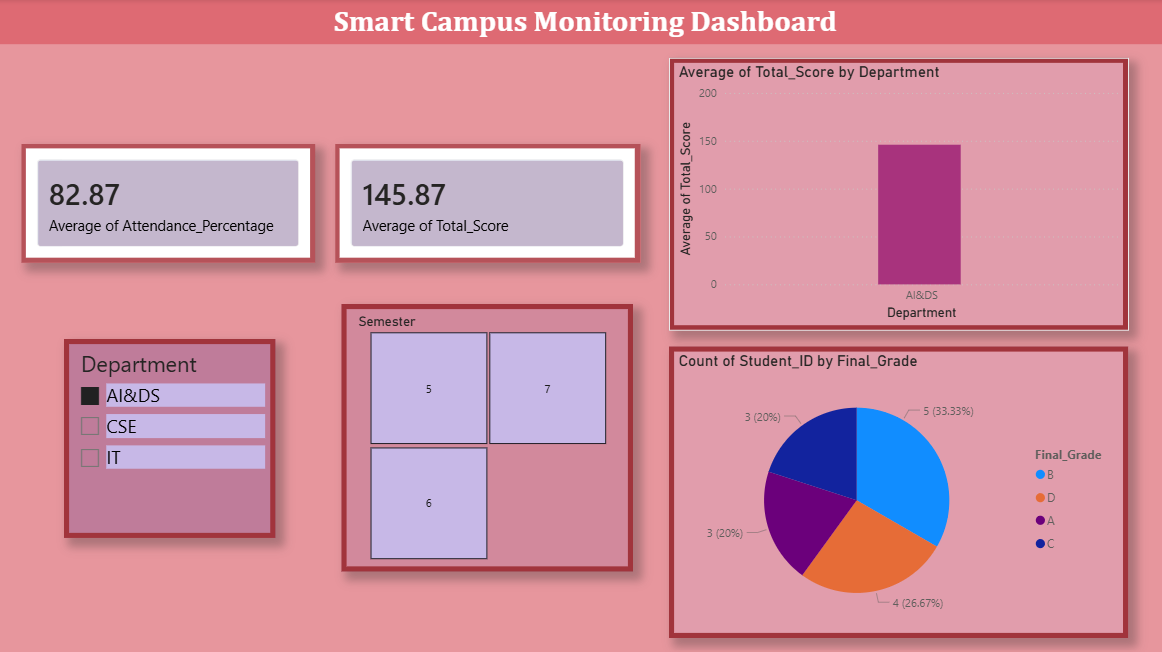

This screenshot's page, from the dashboard's own definition file:
{"tool":"powerbi","page":{"name":"Page 1","canvas":[1280,720],"ordinal":0},"visuals":[{"type":"textbox","box":[0,0,1280.3,49.4],"z":0},{"type":"cardVisual","fields":{"Data":["Avg(5 student_performance.Attendance_Percentage)"]},"box":[24.7,159.2,322.5,130.4],"z":1000},{"type":"cardVisual","fields":{"Data":["Avg(5 student_performance.Total_Score)"]},"box":[369.1,159.2,334.8,130.4],"z":2000},{"type":"slicer","fields":{"Values":["5 student_performance.Department"]},"box":[71.7,373.3,231.7,218.3],"z":3000},{"type":"slicer","fields":{"Values":["5 student_performance.Semester"]},"box":[376.7,335,320,293.3],"z":4000},{"type":"clusteredColumnChart","fields":{"Y":["Avg(5 student_performance.Total_Score)"],"Category":["5 student_performance.Department","5 student_performance.Semester","5 student_performance.Subject"]},"box":[735.9,63.9,504.3,299.2],"z":5000},{"type":"pieChart","fields":{"Category":["5 student_performance.Final_Grade"],"Y":["CountNonNull(5 student_performance.Student_ID)"]},"box":[735.9,381.2,504.3,319.7],"z":6000}]}

Visuals, with their boxes in screenshot pixels (x1, y1, x2, y2), scaled from the page's 1280x720 canvas onto the 1162x652 screenshot:
textbox: bbox=[0, 0, 1161, 45]
cardVisual - Avg(5 student_performance.Attendance_Percentage): bbox=[22, 144, 315, 262]
cardVisual - Avg(5 student_performance.Total_Score): bbox=[335, 144, 639, 262]
slicer - 5 student_performance.Department: bbox=[65, 338, 275, 536]
slicer - 5 student_performance.Semester: bbox=[342, 303, 632, 569]
clusteredColumnChart - Avg(5 student_performance.Total_Score) x 5 student_performance.Department: bbox=[668, 58, 1126, 329]
pieChart - 5 student_performance.Final_Grade x CountNonNull(5 student_performance.Student_ID): bbox=[668, 345, 1126, 635]
